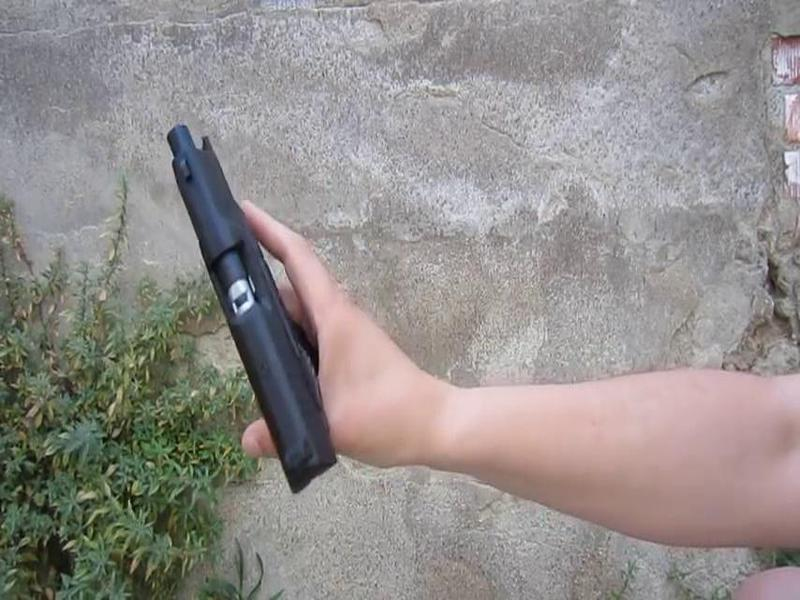Pistola: (140, 99, 345, 486)
